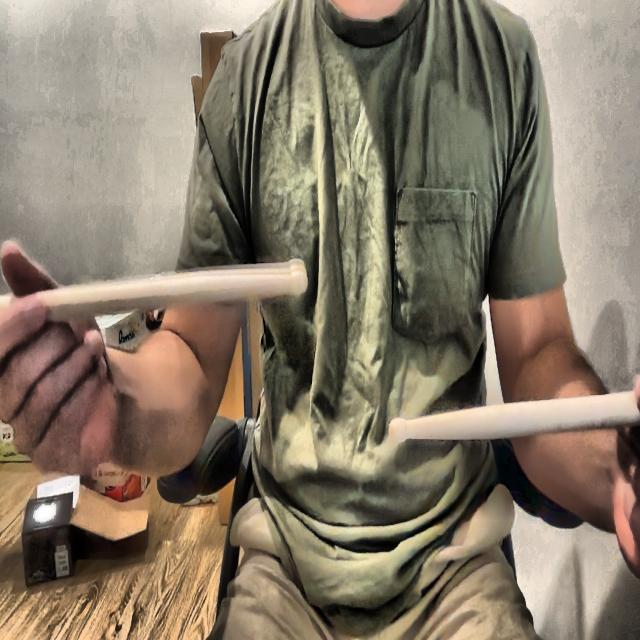Drumstick-Heads: (286, 253, 310, 302), (384, 413, 412, 454)
